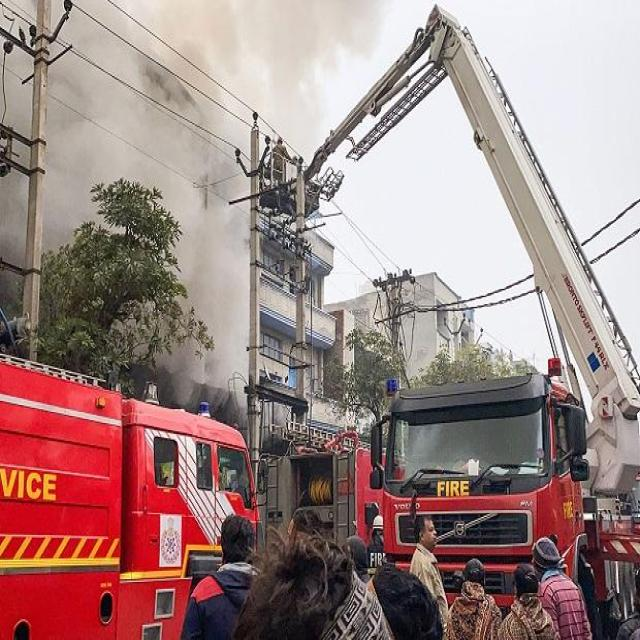emergency: (0, 355, 258, 639), (370, 373, 586, 608)
